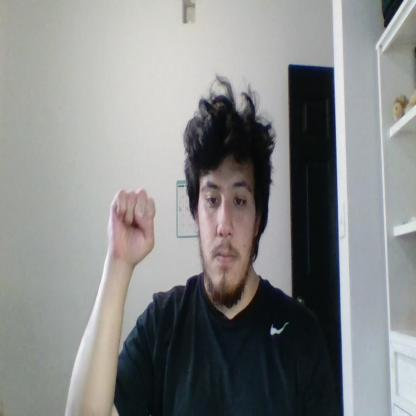S: (108, 188, 155, 267)
